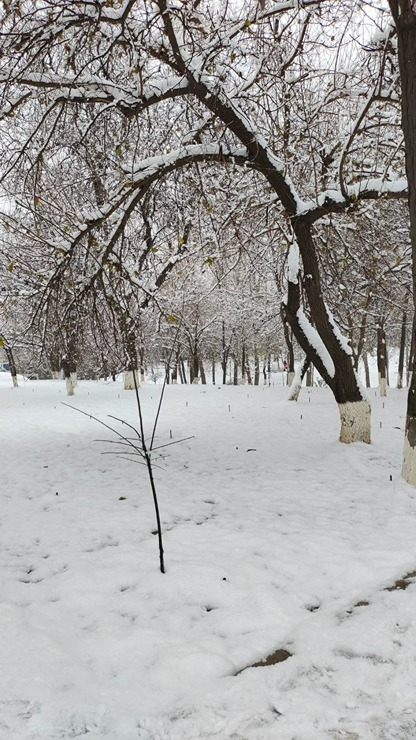tree: (7, 3, 416, 451), (96, 208, 182, 389)
